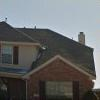Chimney: (71, 26, 89, 52)
